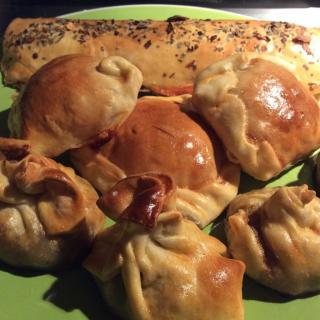Bread: (0, 18, 319, 319), (191, 38, 307, 184)
